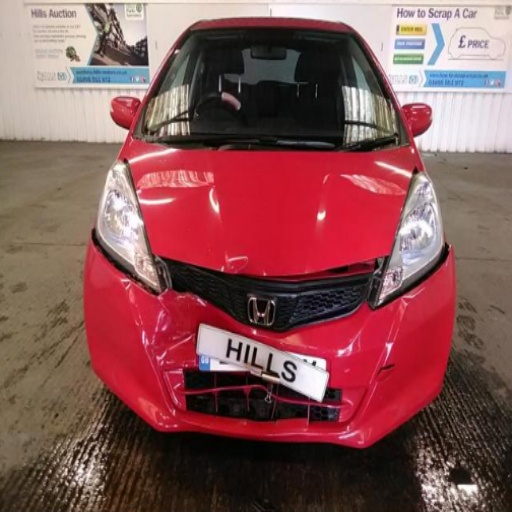dent: (217, 251, 329, 279)
